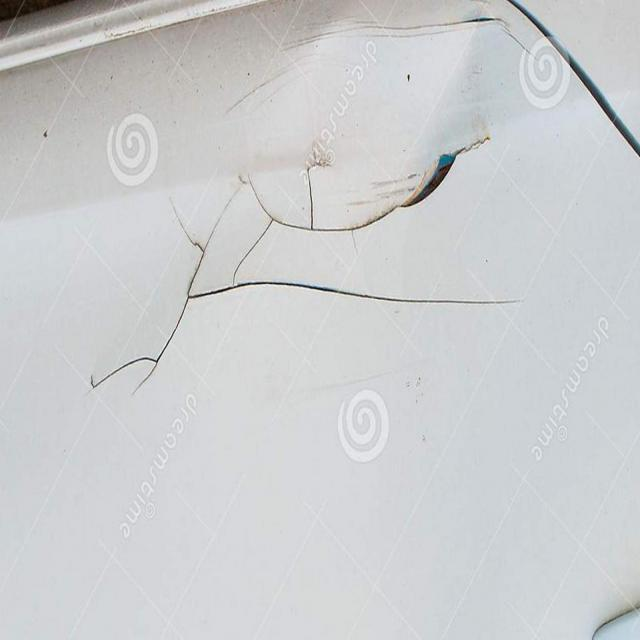dent: (58, 8, 532, 421)
